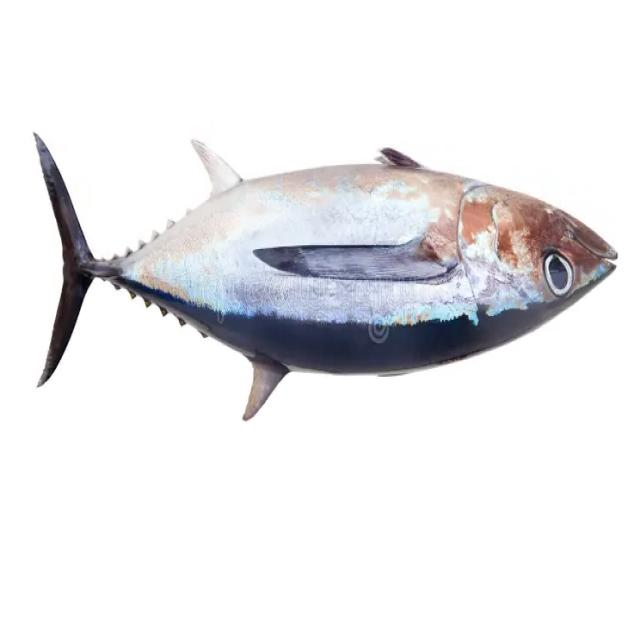Tuna: (37, 134, 621, 420)
